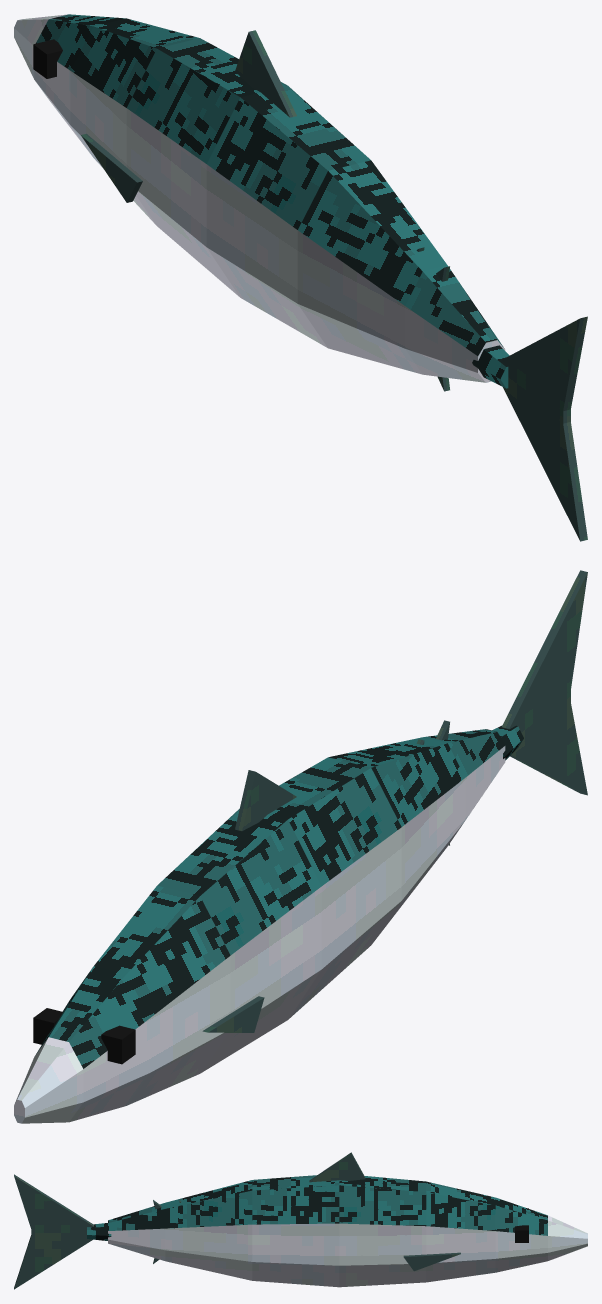
Rendered from bait.glb.
The picture shows the model from 3 angles, top to bottom: view 1: azimuth 30°, elevation 25°; view 2: azimuth 150°, elevation 25°; view 3: azimuth 270°, elevation 25°; orthographic projection. The views are drawn at different scales.
Parts seen in each view (by area): view 1: body, tail; view 2: body, tail; view 3: body, tail.
Boxes of the visible parts, x1,y1,x2,y2 form: body: (14,14,505,391); tail: (472,316,587,541); body: (14,720,505,1123); tail: (492,570,587,795); body: (108,1152,587,1287); tail: (14,1174,111,1289).
Size of the model in its own units: 0.043 by 0.086 by 0.33.
Materials: 4 (4 with a texture image).
